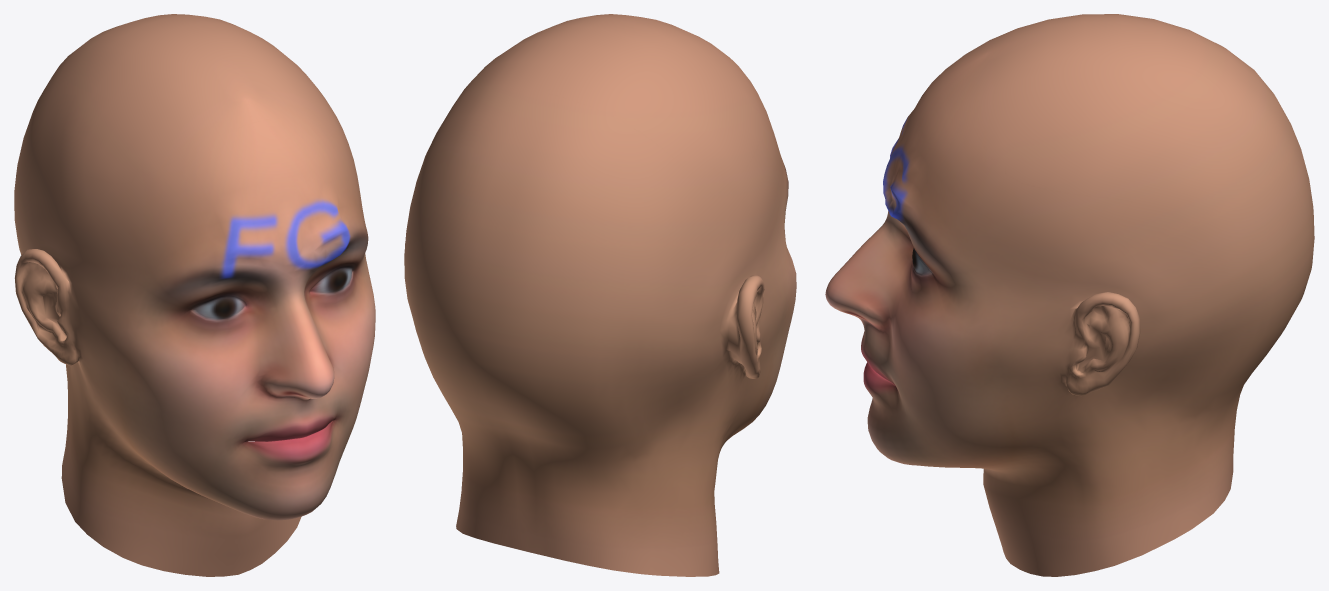
Rendered from avg_southasian_female.obj.
The picture shows the model from 3 angles, left to right: view 1: azimuth 30°, elevation 25°; view 2: azimuth 150°, elevation 25°; view 3: azimuth 270°, elevation 25°; orthographic projection. The views are drawn at different scales.
Visible parts, largest first — view 1: HeadHires; view 2: HeadHires; view 3: HeadHires.
Boxes of the visible parts, x1,y1,x2,y2 form: HeadHires: [14, 14, 375, 576]; HeadHires: [404, 14, 796, 576]; HeadHires: [825, 14, 1314, 576].
Bounding box in the file's own units: 188 × 283 × 240.
Materials: 1 (1 with a texture image).
